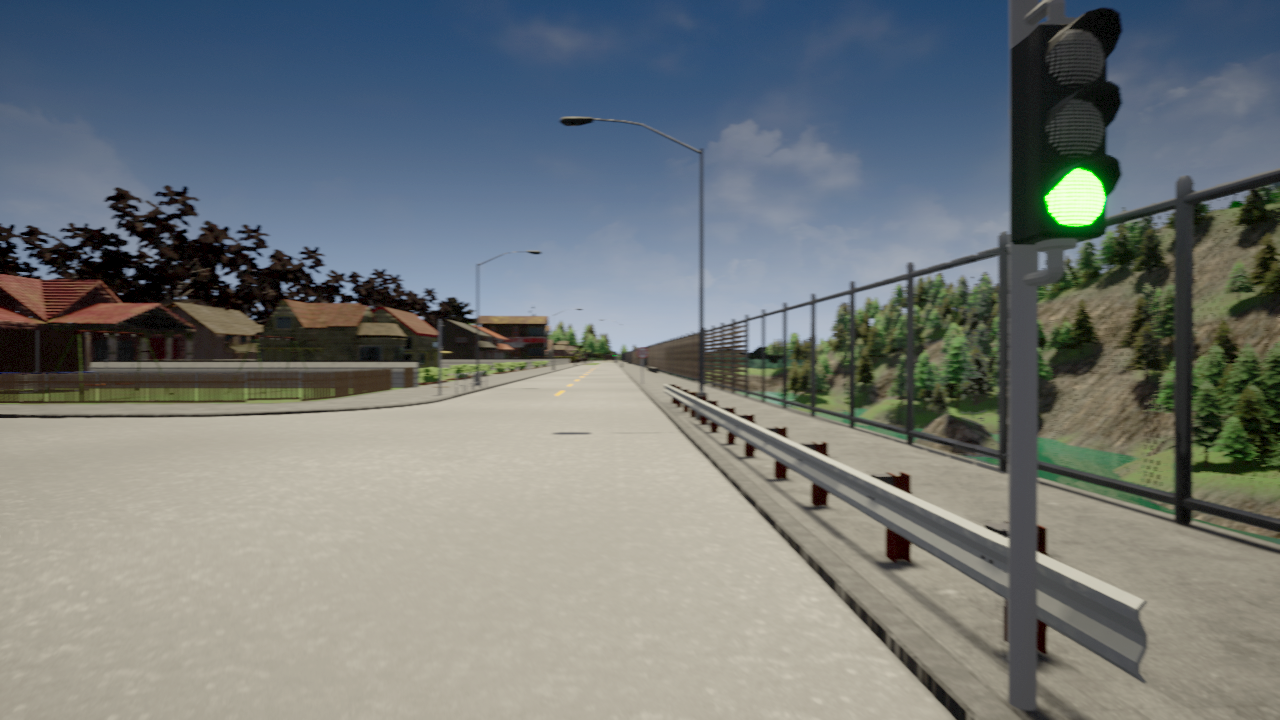green: (1009, 8, 1126, 245)
